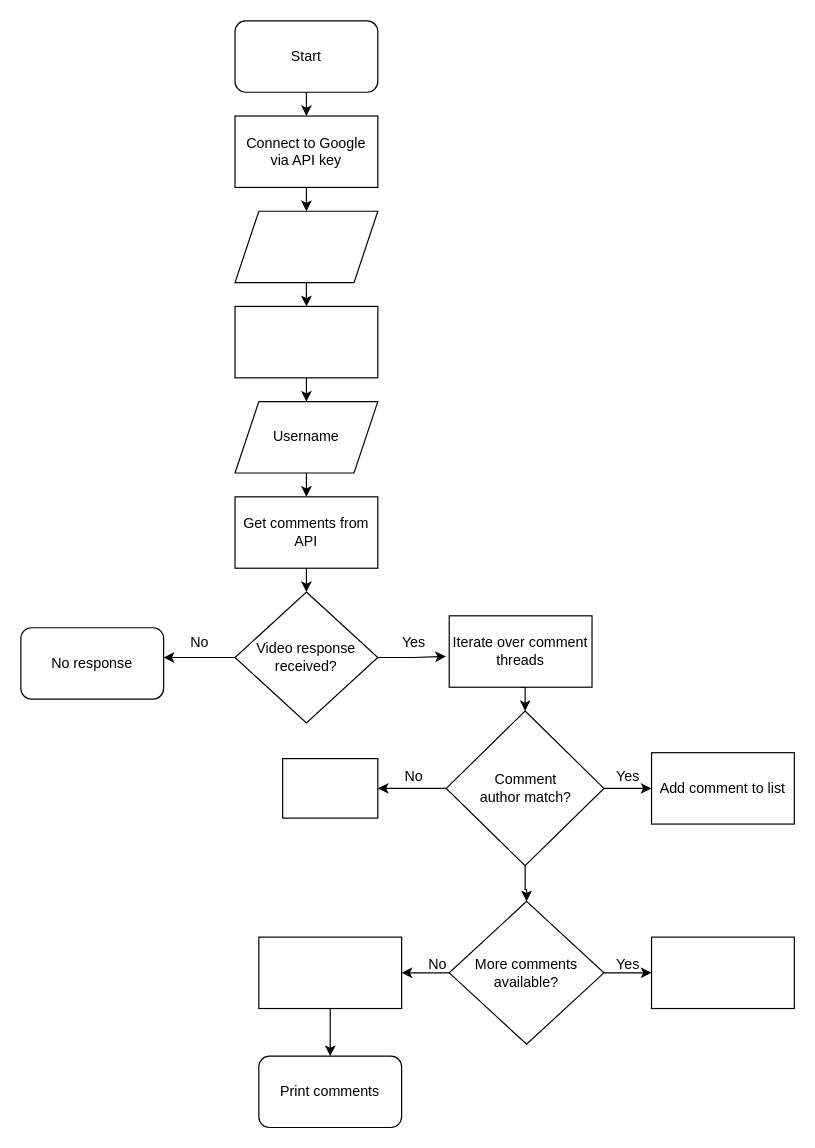
This 815x1148 diagram has some shape labels left out. Each missing label, with the centre of its shape:
"Continue to print comments" belongs at (x=330, y=972).
"Extract Video ID from URL" belongs at (x=306, y=341).
"Recursive call for next page" belongs at (x=722, y=972).
"Skip comment" belongs at (x=329, y=787).
"VIdeo URL" belongs at (x=306, y=246).
